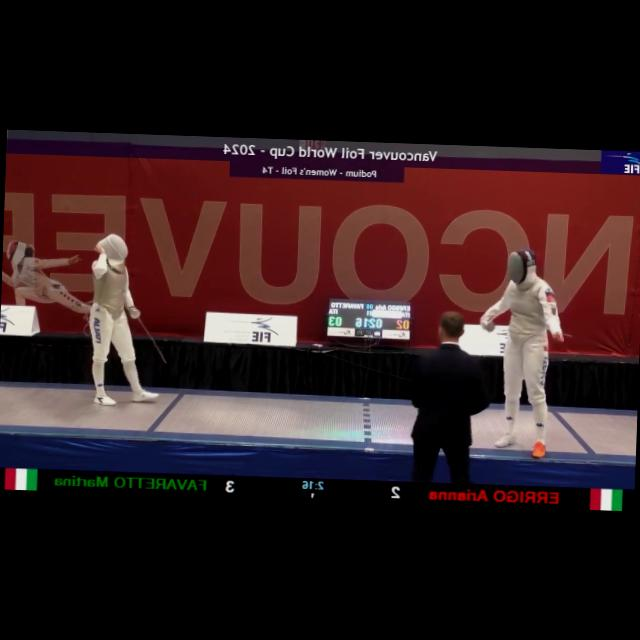blade: (125, 308, 170, 368)
